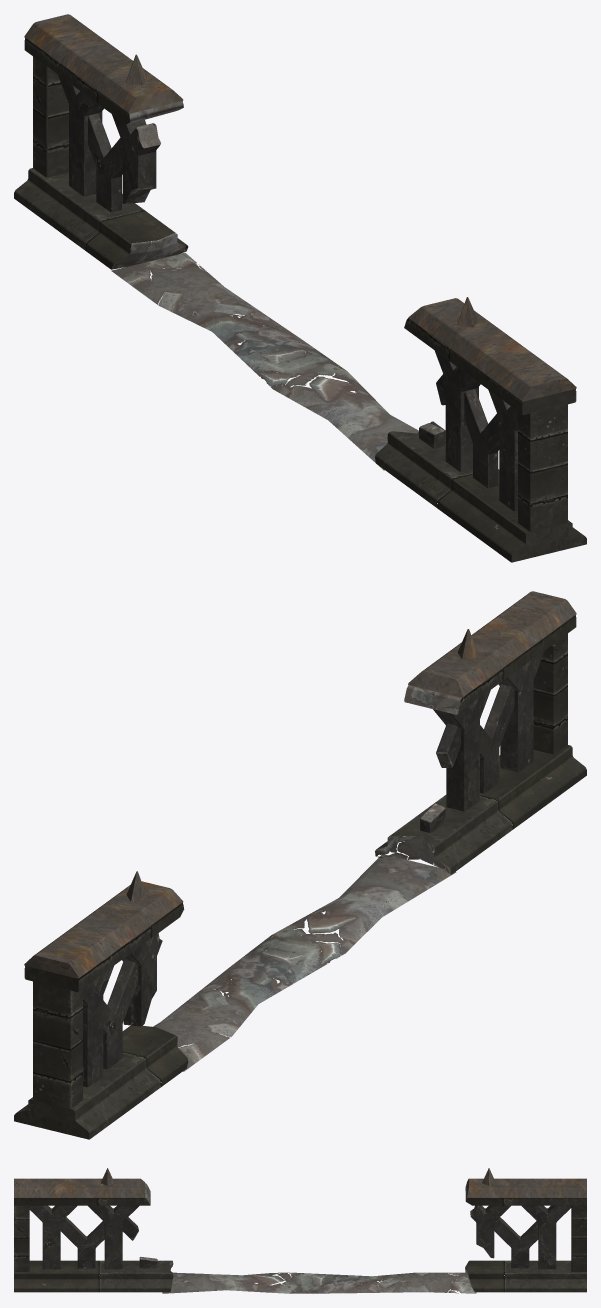
The picture shows the model from 3 angles, top to bottom: view 1: azimuth 30°, elevation 25°; view 2: azimuth 150°, elevation 25°; view 3: azimuth 270°, elevation 25°; orthographic projection. The views are drawn at different scales.
Visible parts, largest first — view 1: SM_Greathall_Banister_01_DMG_LOD0; view 2: SM_Greathall_Banister_01_DMG_LOD0; view 3: SM_Greathall_Banister_01_DMG_LOD0.
Part boxes in pixels (x1,y1,x2,y2): SM_Greathall_Banister_01_DMG_LOD0: [14, 14, 586, 562]; SM_Greathall_Banister_01_DMG_LOD0: [14, 591, 586, 1139]; SM_Greathall_Banister_01_DMG_LOD0: [14, 1168, 586, 1293].
Bounding box in the file's own units: 0.7023 × 1.77 × 8.
Materials: 4 (4 with a texture image).
